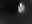person: (20, 3, 26, 14)
